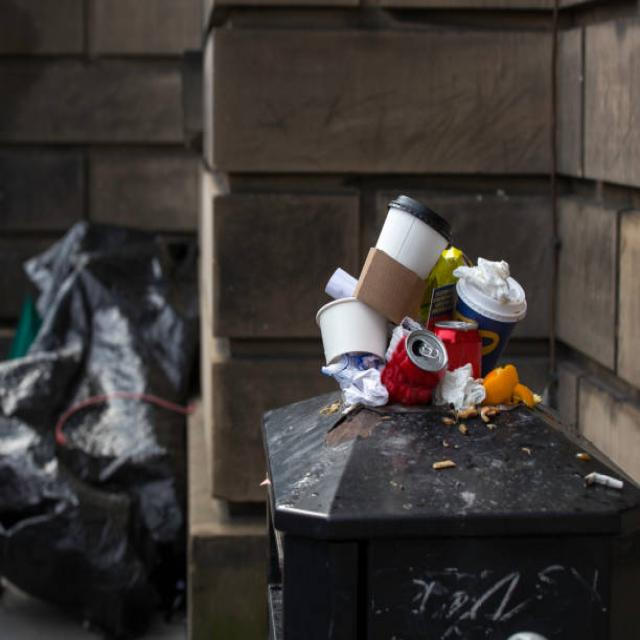metal: (411, 326, 489, 412)
plastic: (401, 198, 516, 312), (313, 244, 390, 392)
